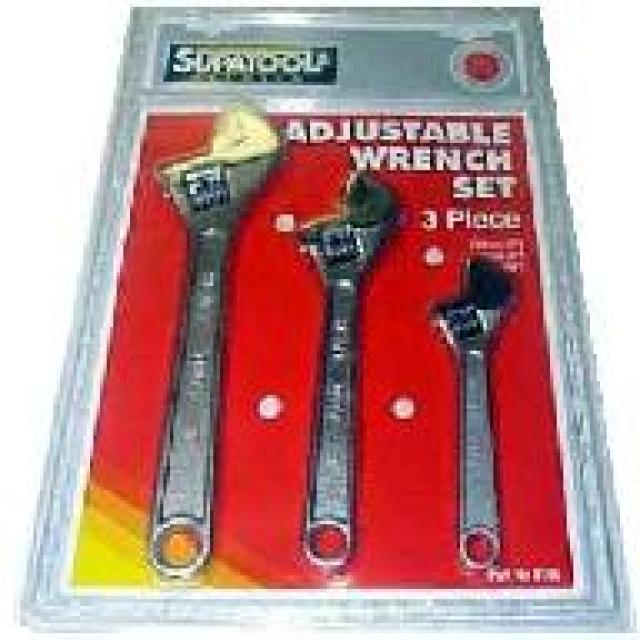wrench: (150, 97, 286, 596), (288, 166, 403, 569), (431, 252, 522, 583)
